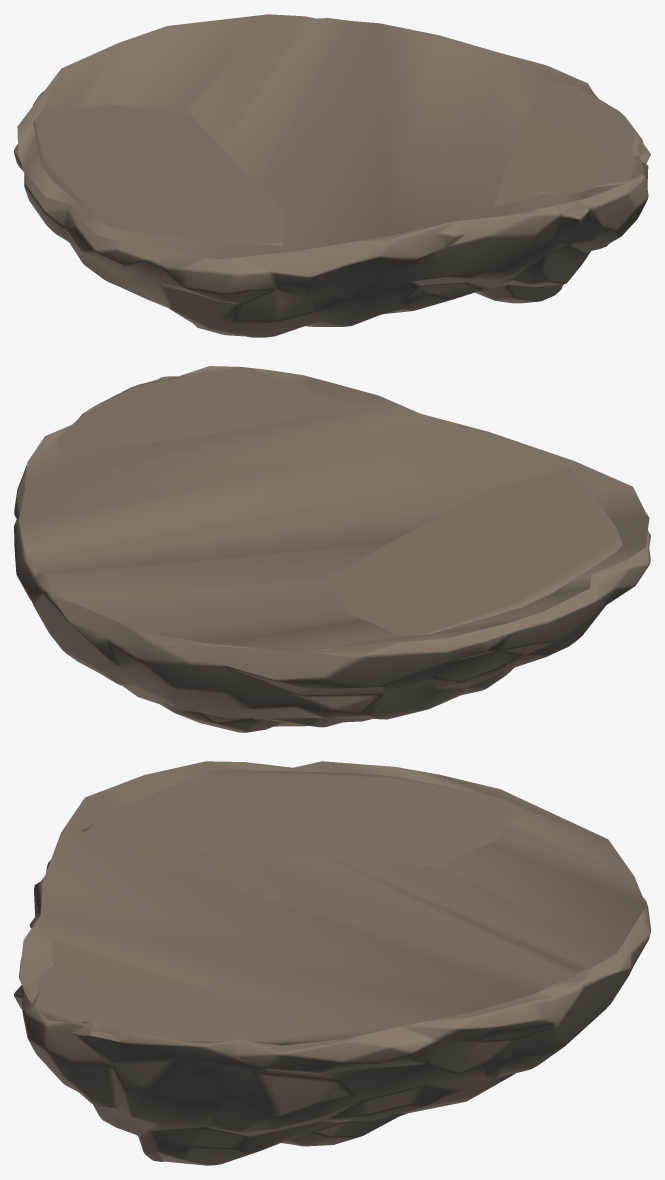
The model's file is IlhaM3.fbx.
The picture shows the model from 3 angles, top to bottom: view 1: azimuth 30°, elevation 25°; view 2: azimuth 150°, elevation 25°; view 3: azimuth 270°, elevation 25°; orthographic projection. The views are drawn at different scales.
Visible parts, largest first — view 1: IlhaM3, IlhaM3Colisor; view 2: IlhaM3Colisor, IlhaM3; view 3: IlhaM3, IlhaM3Colisor.
Boxes of the visible parts, box(x1,y1,x2,y2) form: IlhaM3: box(14, 80, 650, 337); IlhaM3Colisor: box(17, 14, 644, 259); IlhaM3Colisor: box(19, 366, 648, 651); IlhaM3: box(14, 367, 650, 732); IlhaM3: box(14, 770, 650, 1165); IlhaM3Colisor: box(19, 761, 646, 1045).
Bounding box in the file's own units: 2968 × 861 × 2778.
